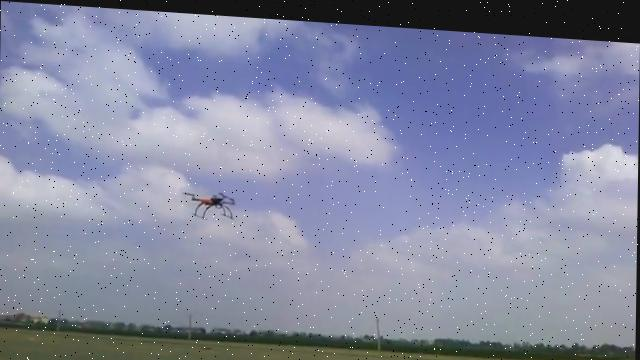drone: (179, 184, 235, 218)
